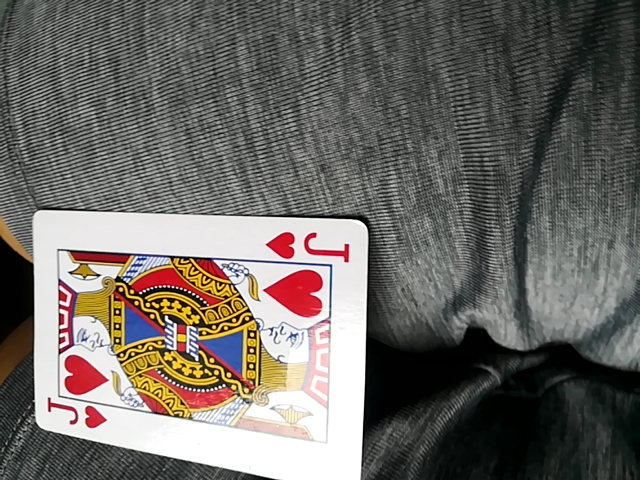hx j: (33, 213, 365, 478)
